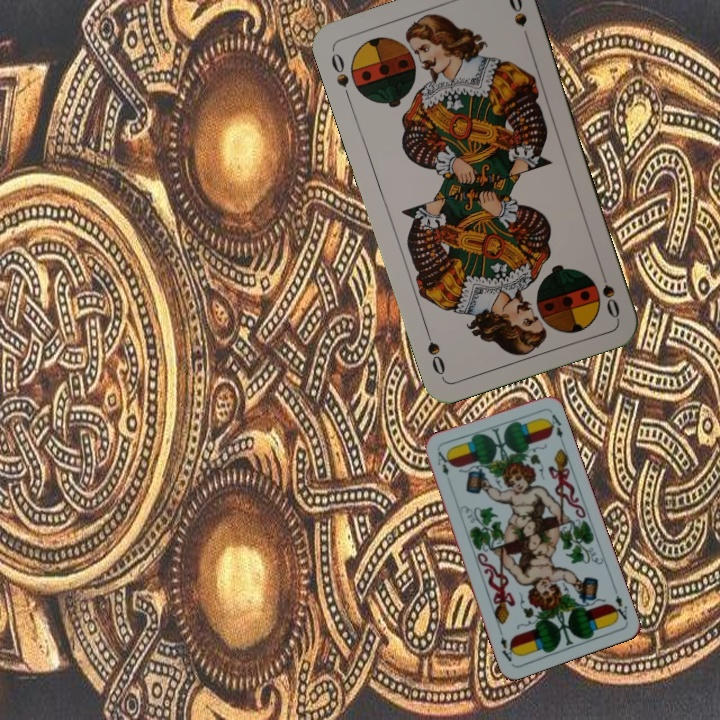EA: (608, 584, 630, 623), (433, 447, 452, 478)
SO: (595, 263, 623, 321), (327, 49, 354, 104)
